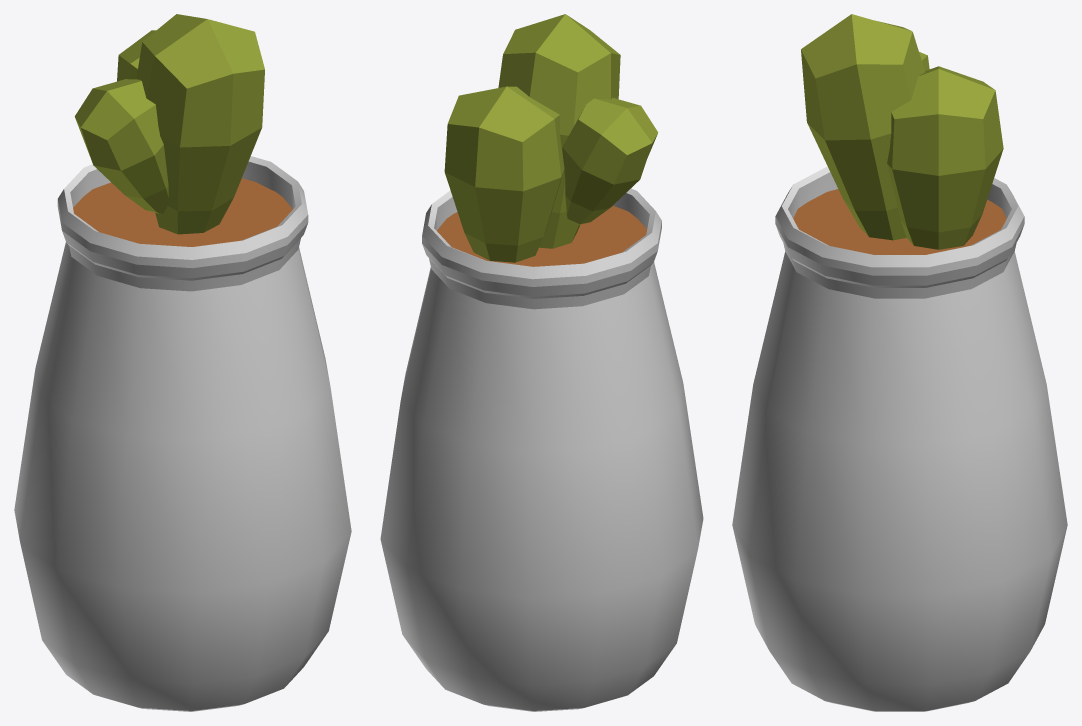
Rendered from cactus.fbx.
3 renders of one model, left to right at view 1: azimuth 30°, elevation 25°; view 2: azimuth 150°, elevation 25°; view 3: azimuth 270°, elevation 25°, orthographic. The views are drawn at different scales.
Parts seen in each view (by area): view 1: Cactus; view 2: Cactus; view 3: Cactus.
Part boxes in pixels (box(x1,y1,x2,y2)): Cactus: box(14, 14, 351, 711); Cactus: box(380, 14, 703, 711); Cactus: box(732, 14, 1067, 711).
Size of the model in its own units: 0.7581 by 1.67 by 0.7776.
